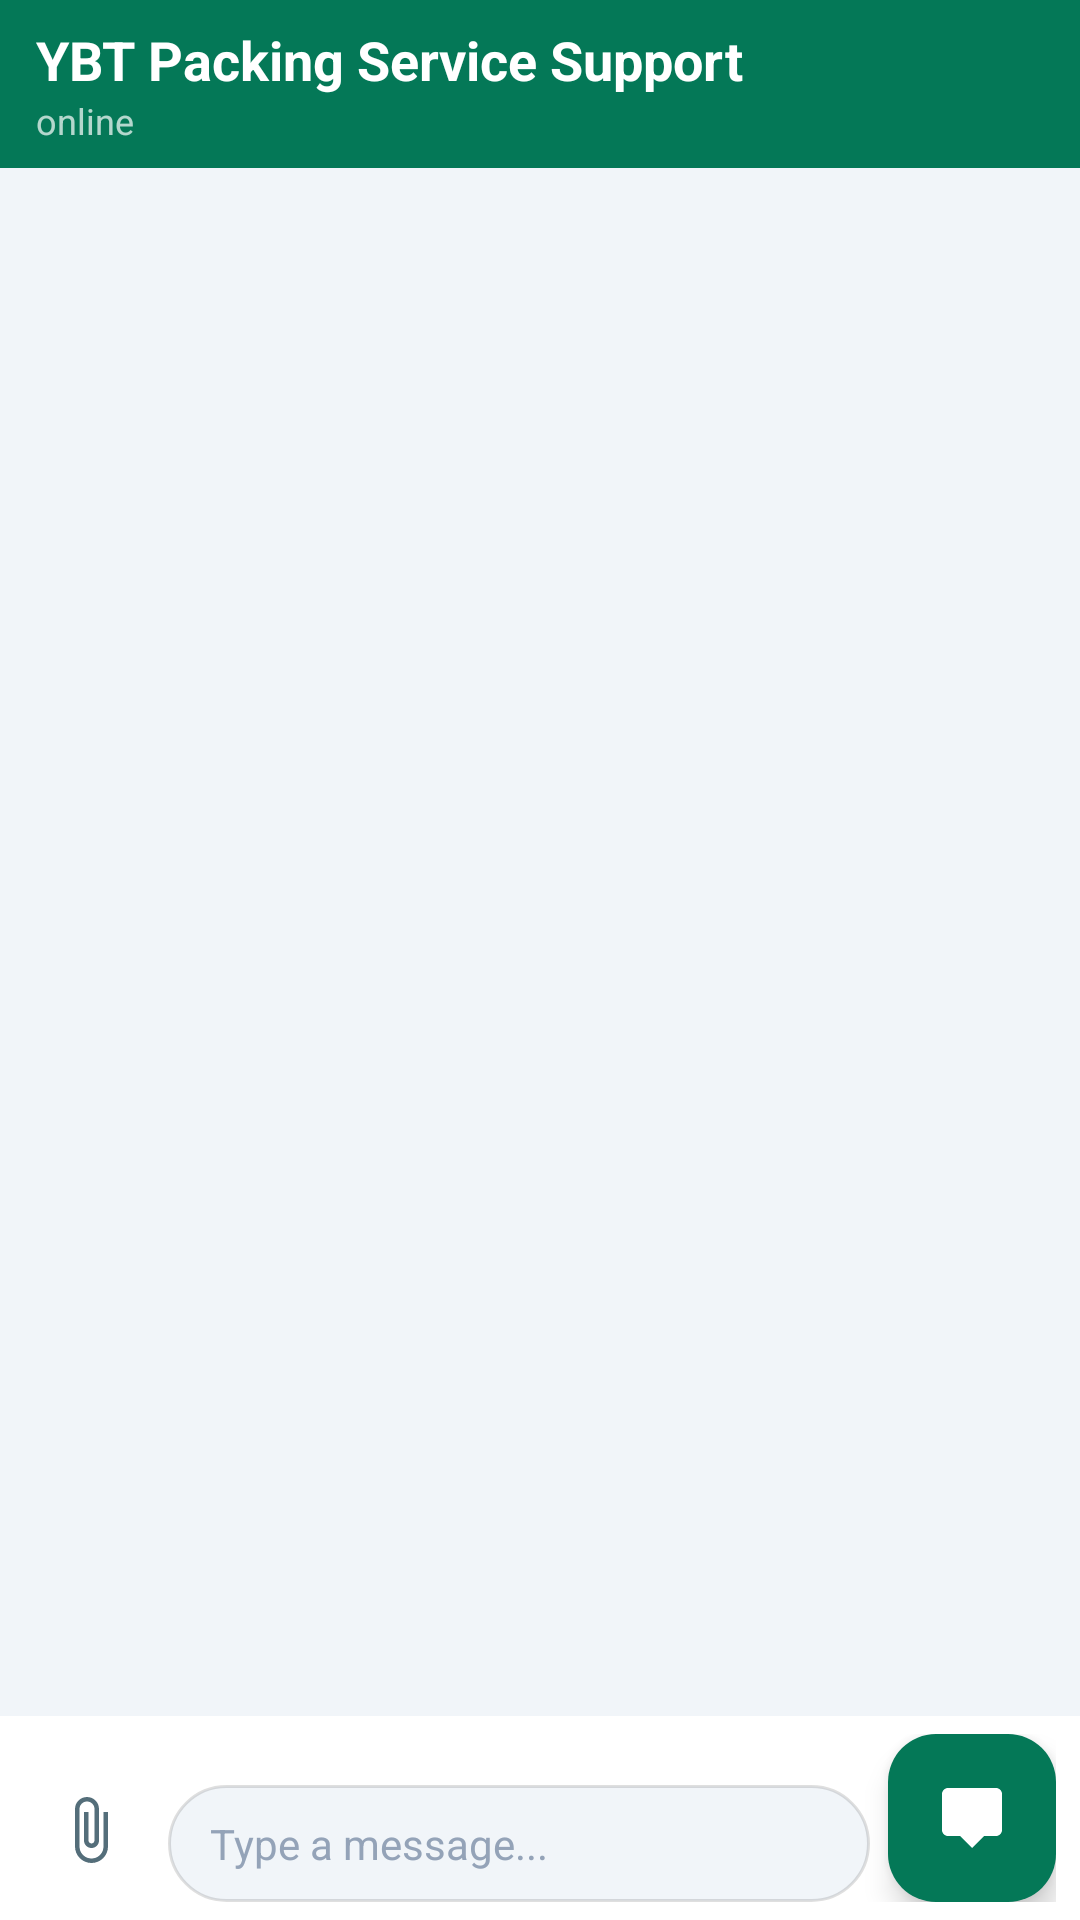

Where icons sit on this 1080x1920 app screen, as {"left": x1, "top": y1, "right": x2, "bottom": y2}:
Attach photo: {"left": 75, "top": 1797, "right": 108, "bottom": 1863}
